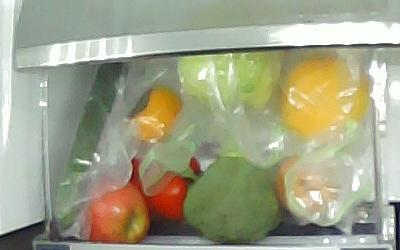apple: (77, 176, 150, 242)
broccoli: (181, 156, 280, 241)
cucumber_vinyl: (55, 60, 129, 226)
grapefruit_vinyl: (279, 60, 368, 142)
lettuce_vinyl: (175, 49, 281, 117)
paprika: (129, 153, 203, 220)
peach_vinyl: (275, 155, 340, 211)
persimmon_vinyl: (126, 86, 182, 143)
